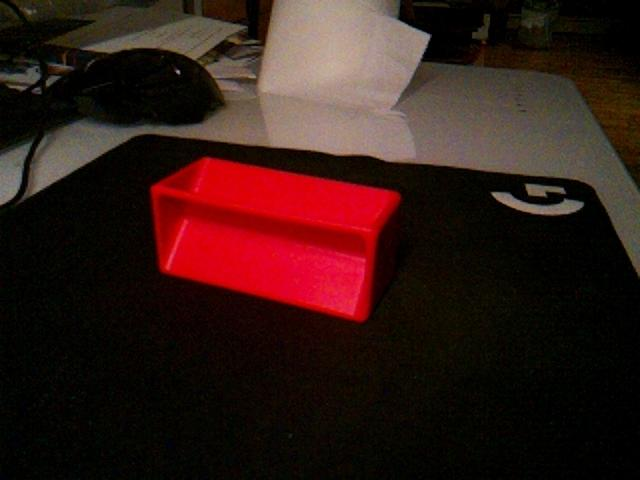red: (149, 155, 404, 324)
